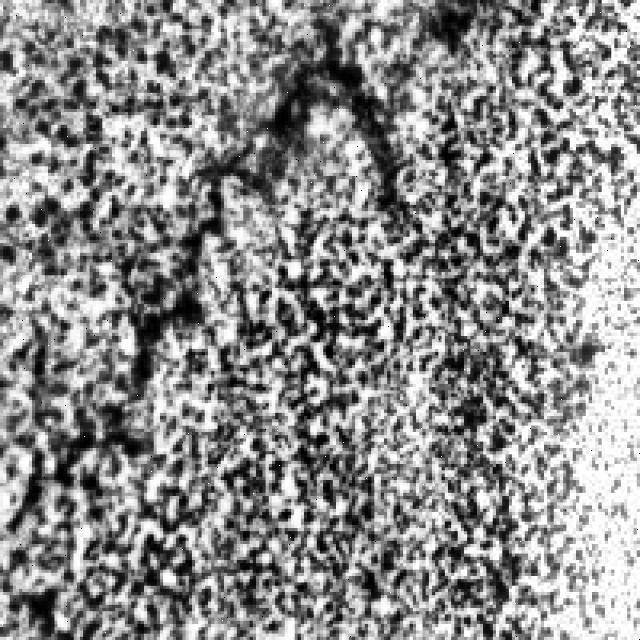Rolled_in_Scale: (3, 0, 627, 627)
